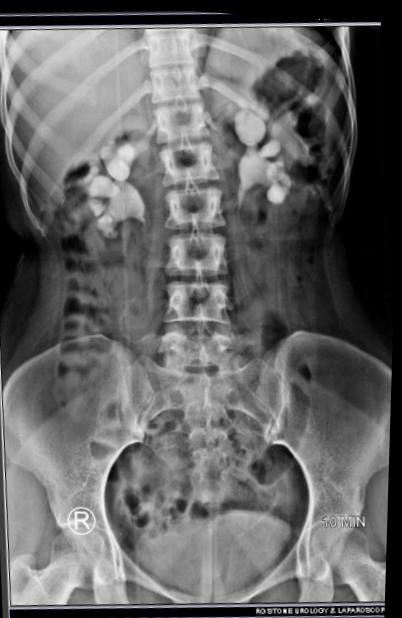bladder: (115, 499, 301, 617)
left kidney: (213, 69, 319, 221)
right kidney: (43, 113, 153, 272)
vertebrae: (145, 130, 221, 186)
